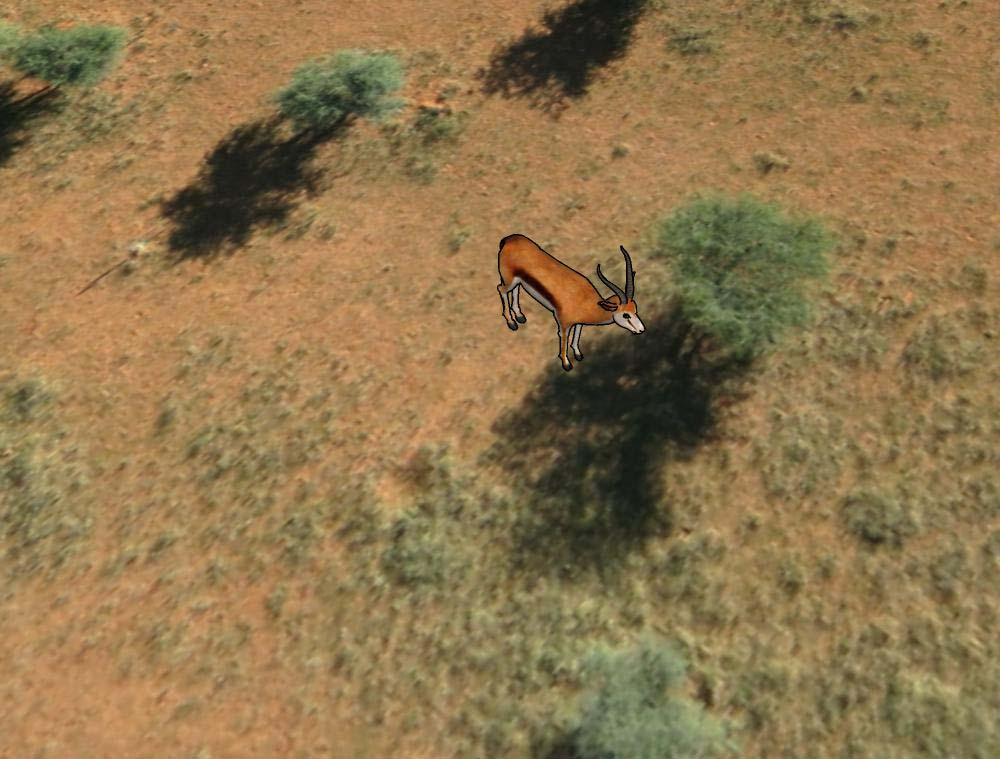springbok: (494, 226, 650, 373)
